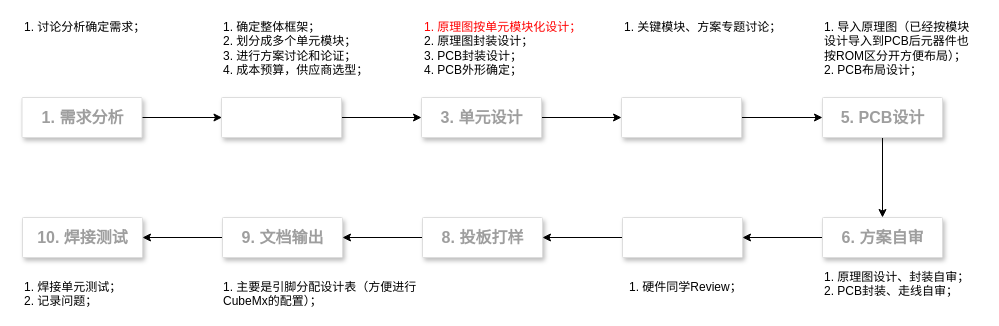
The diagram is 999 pixels wide and 326 high, and some of its shapes have lost their labels. The centre of each missing label's shape, as x and y in pixels:
2. 方案设计: point (282, 118)
4. 专题讨论: point (682, 118)
7. 设计Review: point (683, 238)
